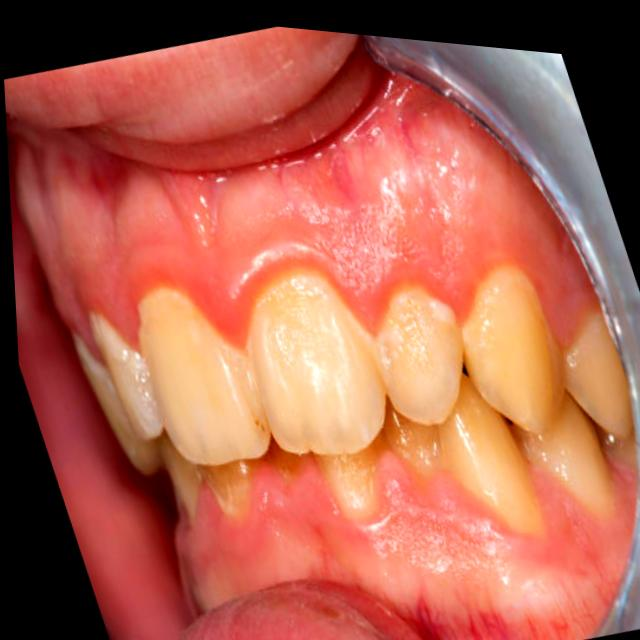gingivitis: (82, 183, 536, 340), (192, 504, 632, 607)
